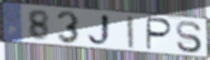3: (56, 10, 82, 45)
8: (27, 8, 52, 43)
I: (125, 15, 135, 50)
J: (85, 13, 113, 48)
P: (145, 16, 174, 52)
S: (176, 20, 204, 55)
